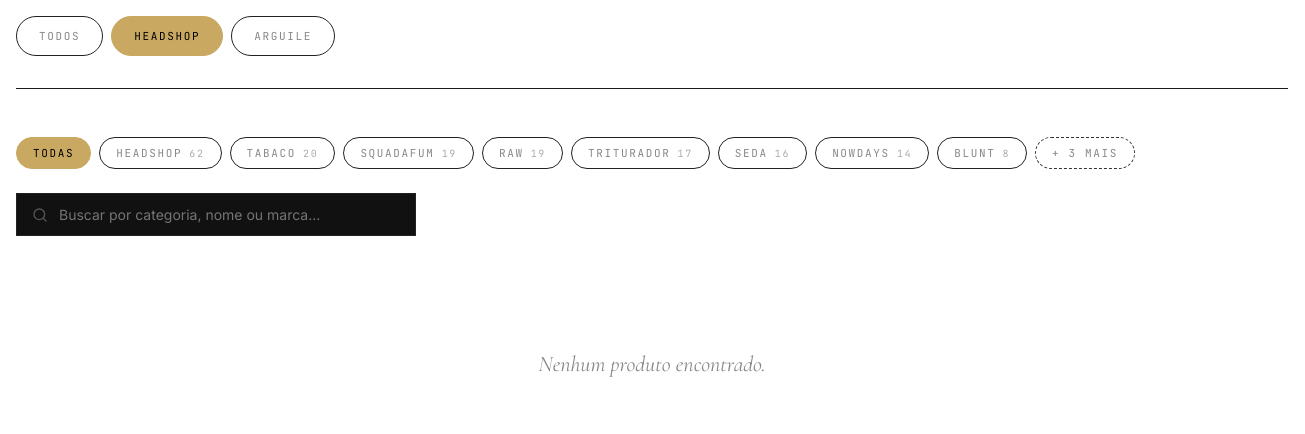
it: barra de subcategorias › "+ N mais" abre a cauda e marca a subcategoria esgotada
The image size is (1305, 434).
What coordinates should you click on to do the following:
click the button "+ 3 mais"
I would click on:
 (1085, 153)
Its box is [1035,137,1135,169].
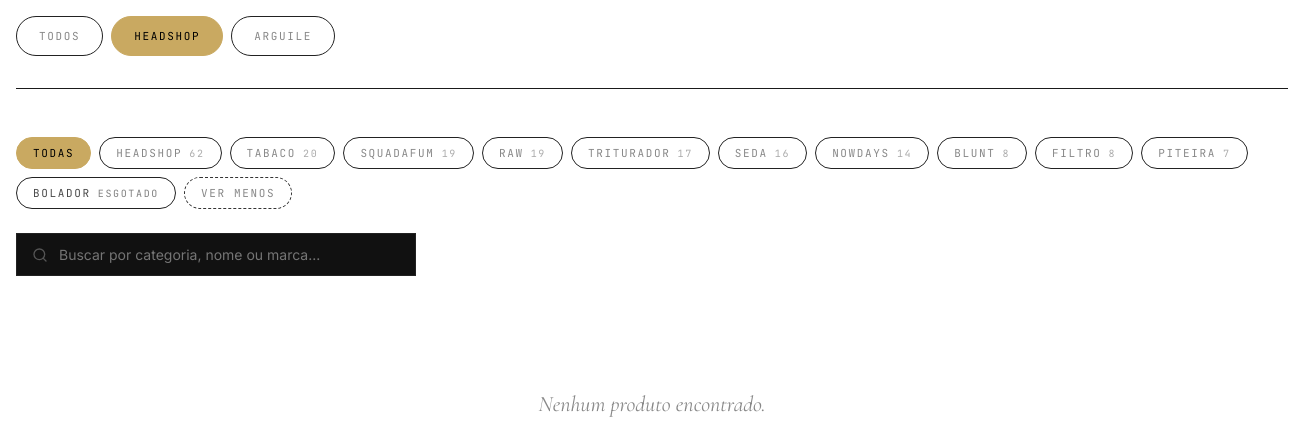
Check: the button "Bolador esgotado" is shown, box [16,177,176,209]
Check: the button "ver menos" is shown, box [184,177,292,209]
